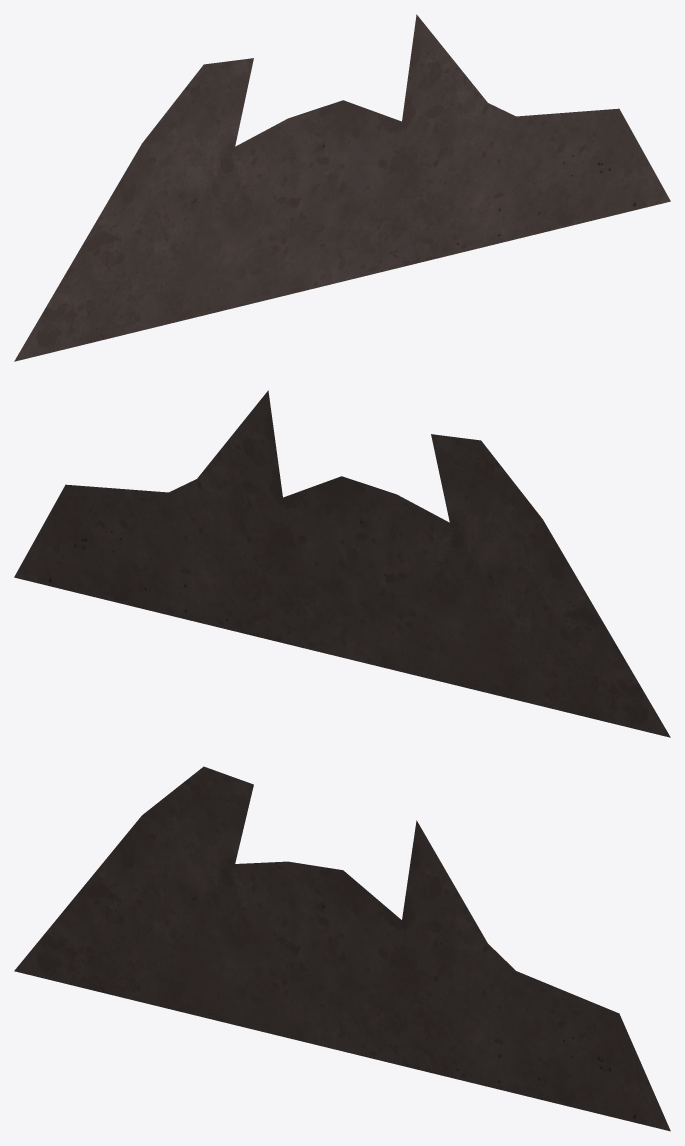
Rendered from Vista16.fbx.
3 views of the same model, one above another, from view 1: azimuth 30°, elevation 25°; view 2: azimuth 150°, elevation 25°; view 3: azimuth 330°, elevation 25° (orthographic).
Visible parts, largest first — view 1: SM_ENV_STRUCT_ScrapYard_Vista_16.mo; view 2: SM_ENV_STRUCT_ScrapYard_Vista_16.mo; view 3: SM_ENV_STRUCT_ScrapYard_Vista_16.mo.
Part boxes in pixels (x1,y1,x2,y2): SM_ENV_STRUCT_ScrapYard_Vista_16.mo: [14, 14, 670, 361]; SM_ENV_STRUCT_ScrapYard_Vista_16.mo: [14, 390, 670, 737]; SM_ENV_STRUCT_ScrapYard_Vista_16.mo: [14, 766, 670, 1131].
Bounding box in the file's own units: 4991 × 1822 × 0.000297.
Materials: 1 (1 with a texture image).
